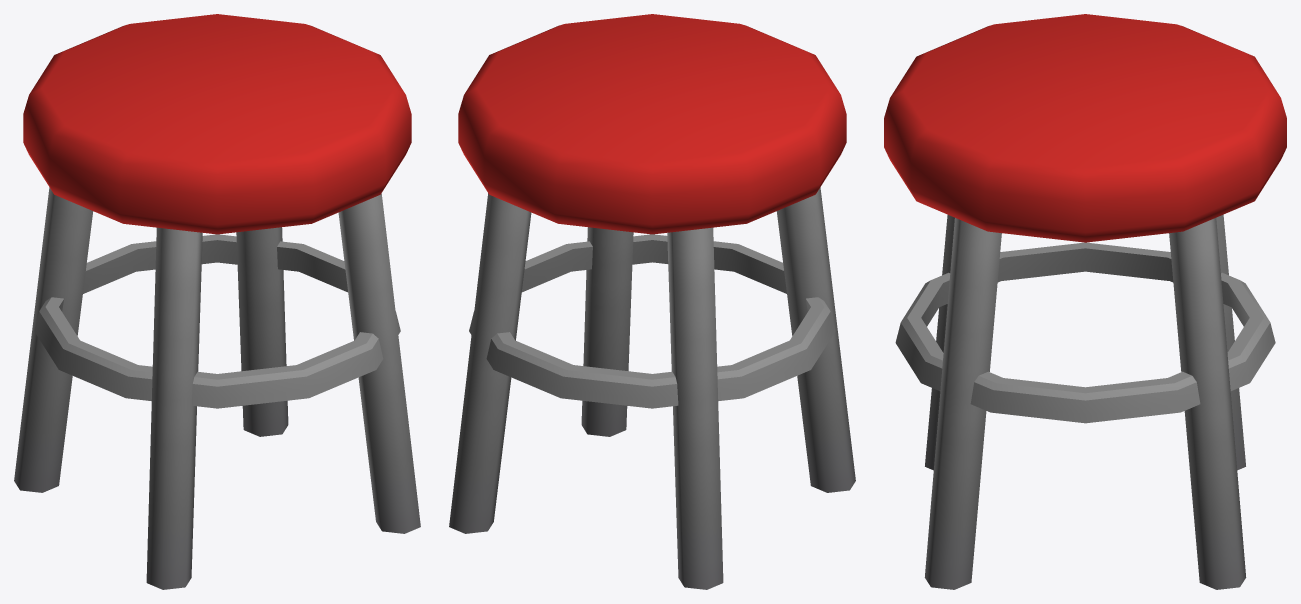
File: Chair_2_A.fbx
3 views of the same model, side by side, from view 1: azimuth 30°, elevation 25°; view 2: azimuth 150°, elevation 25°; view 3: azimuth 270°, elevation 25° (orthographic). The views are drawn at different scales.
Visible parts, largest first — view 1: Chair_2_A; view 2: Chair_2_A; view 3: Chair_2_A.
Part boxes in pixels (box(x1,y1,x2,y2)): Chair_2_A: box(14, 14, 420, 589); Chair_2_A: box(449, 14, 855, 589); Chair_2_A: box(884, 14, 1286, 589).
Bounding box in the file's own units: 50.02 × 59.1 × 50.04.
